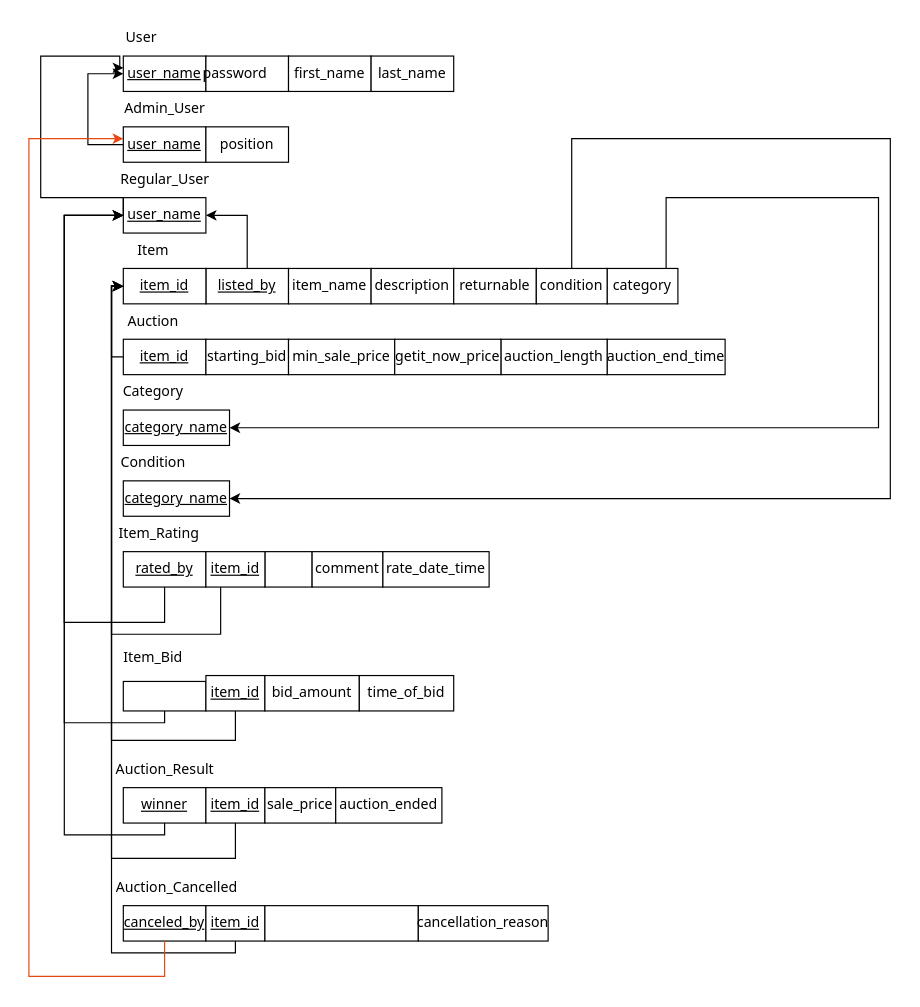
The diagram is 920 pixels wide and 1007 high, and some of its shapes have lost their labels. Each missing label, with the box of its shape:
bid_by: (122, 680, 206, 711)
cancellation_date_time: (264, 904, 418, 941)
stars: (264, 550, 312, 587)
